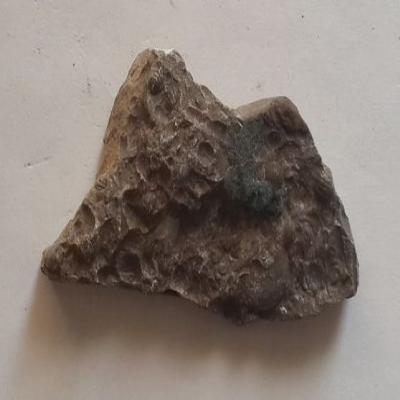natural_science_collection: (39, 49, 360, 328)
